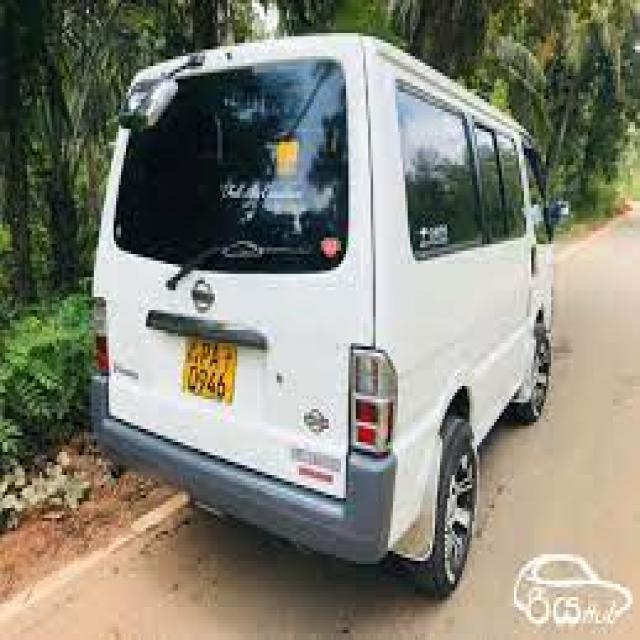van: (91, 33, 551, 594)
